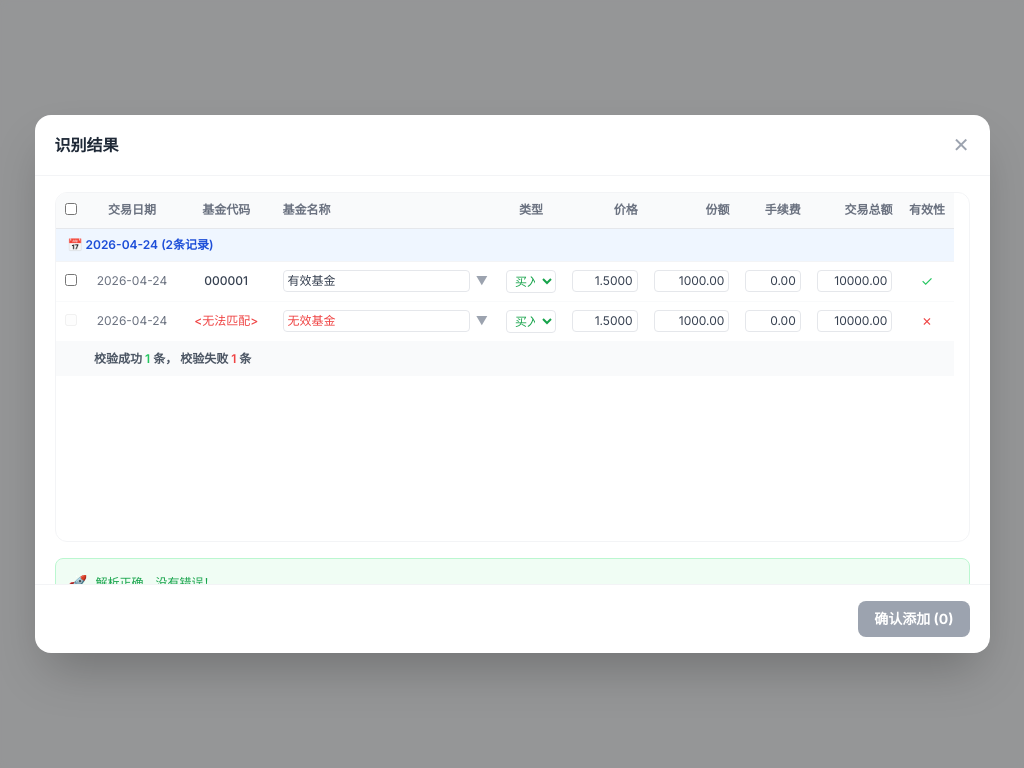
Test: TradeSmartInputResultModal › 选择功能 › 无效记录不可选中
The image size is (1024, 768).
Expected: the button "确认添加 (0)" is shown, [858,601,970,637]
选中有效记录后显示1
Click the checkbox in the row of "000001".
click(71, 280)  # box [65,274,77,286]
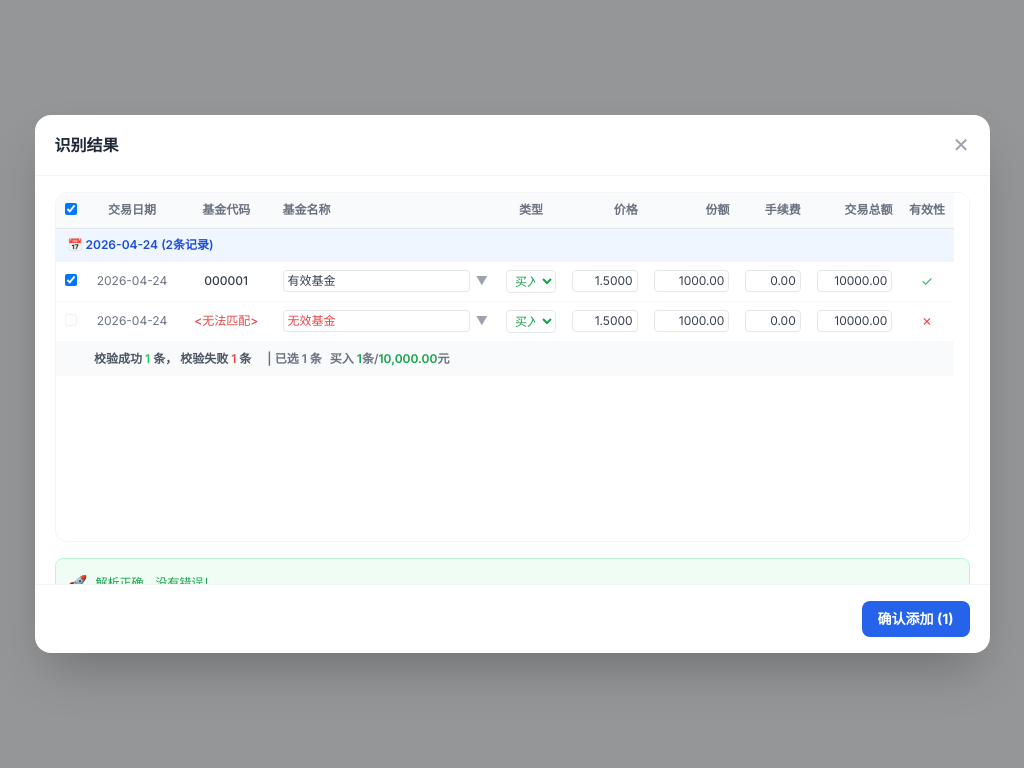
Expected: the button "确认添加 (1)" is shown, [862,601,970,637]
